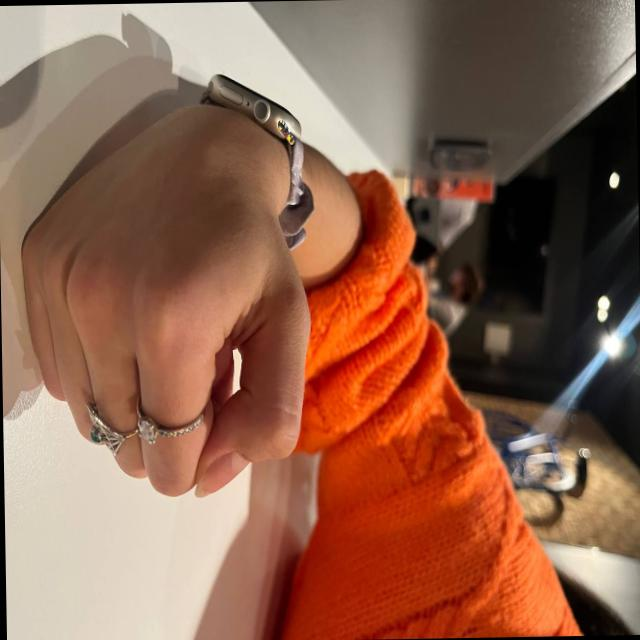a: (12, 98, 342, 514)
